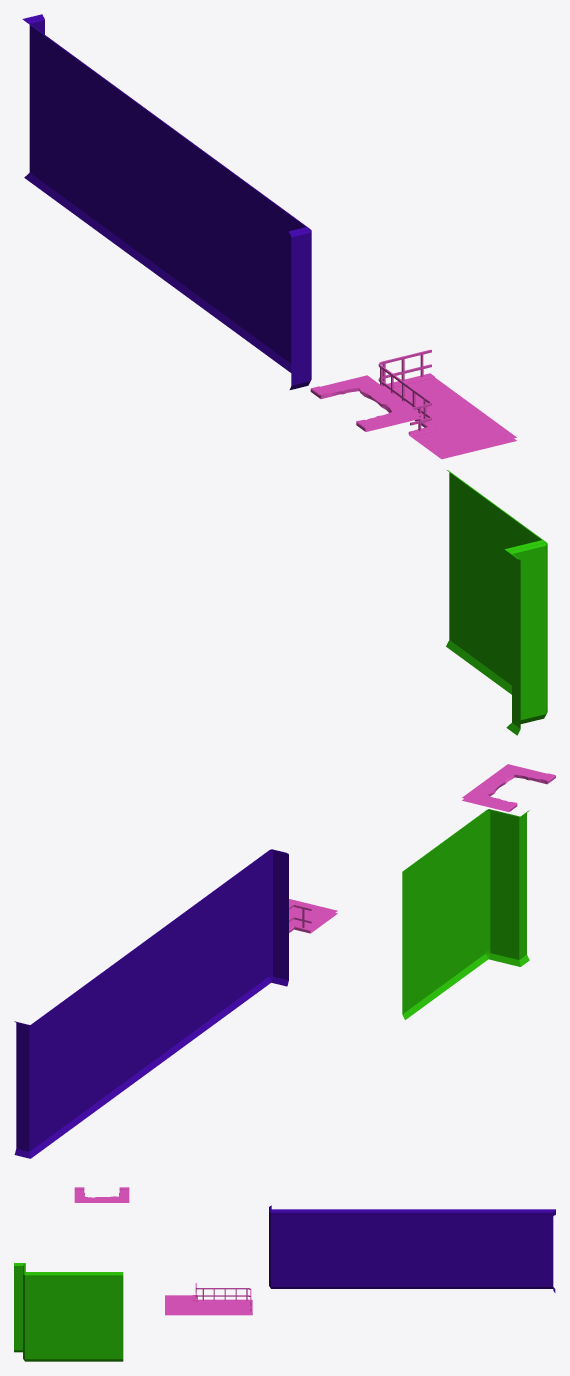
The picture shows the model from 3 angles, top to bottom: view 1: azimuth 30°, elevation 25°; view 2: azimuth 150°, elevation 25°; view 3: azimuth 270°, elevation 25°; orthographic projection. The views are drawn at different scales.
Parts seen in each view (by area): view 1: Wall_Tall_Rectangle_LP, Wall_Tall_Square_LP, Wall_Taller_Square_LP, Wall_Taller_Corner_In_LP, Catwalk_Corner_In_LP, Wall_Tall_Corner_In_LP, Wall_Taller_Corner_Out_LP, Catwalk_Corner_Out_LP, Wall_Tall_Corner_Out_LP; view 2: Wall_Tall_Rectangle_LP, Wall_Taller_Square_LP, Wall_Tall_Square_LP, Wall_Taller_Corner_In_LP, Wall_Tall_Corner_In_LP, Wall_Taller_Corner_Out_LP, Wall_Tall_Corner_Out_LP, Catwalk_Corner_In_LP, Floor_Broken_Long_2_LP, Floor_Broken_Long_1_LP; view 3: Wall_Tall_Rectangle_LP, Wall_Taller_Square_LP, Wall_Tall_Square_LP, Wall_Taller_Corner_In_LP, Wall_Tall_Corner_In_LP, Catwalk_Corner_In_LP, Wall_Taller_Corner_Out_LP, Wall_Tall_Corner_Out_LP, Catwalk_Corner_Out_LP, Catwalk_Mid_LP.
Boxes of the visible parts, left/top/right/bottom form: Wall_Tall_Rectangle_LP: left=122, top=92, right=300, bottom=372; Wall_Tall_Square_LP: left=35, top=29, right=125, bottom=249; Wall_Taller_Square_LP: left=446, top=470, right=536, bottom=694; Wall_Taller_Corner_In_LP: left=524, top=534, right=547, bottom=722; Catwalk_Corner_In_LP: left=408, top=393, right=516, bottom=459; Wall_Tall_Corner_In_LP: left=289, top=221, right=311, bottom=389; Wall_Taller_Corner_Out_LP: left=505, top=544, right=527, bottom=735; Catwalk_Corner_Out_LP: left=378, top=349, right=461, bottom=407; Wall_Tall_Corner_Out_LP: left=22, top=14, right=44, bottom=185; Wall_Tall_Rectangle_LP: left=111, top=856, right=261, bottom=1097; Wall_Taller_Square_LP: left=402, top=816, right=478, bottom=1019; Wall_Tall_Square_LP: left=37, top=965, right=113, bottom=1151; Wall_Taller_Corner_In_LP: left=476, top=809, right=506, bottom=965; Wall_Tall_Corner_In_LP: left=259, top=849, right=288, bottom=989; Wall_Taller_Corner_Out_LP: left=504, top=810, right=529, bottom=966; Wall_Tall_Corner_Out_LP: left=14, top=1019, right=39, bottom=1158; Catwalk_Corner_In_LP: left=289, top=899, right=337, bottom=933; Floor_Broken_Long_2_LP: left=462, top=791, right=517, bottom=811; Floor_Broken_Long_1_LP: left=499, top=764, right=555, bottom=784; Wall_Tall_Rectangle_LP: left=282, top=1209, right=456, bottom=1288; Wall_Taller_Square_LP: left=36, top=1272, right=123, bottom=1361; Wall_Tall_Square_LP: left=457, top=1209, right=544, bottom=1288; Wall_Taller_Corner_In_LP: left=23, top=1268, right=35, bottom=1361; Wall_Tall_Corner_In_LP: left=269, top=1205, right=281, bottom=1288; Catwalk_Corner_In_LP: left=165, top=1283, right=208, bottom=1315; Wall_Taller_Corner_Out_LP: left=14, top=1263, right=25, bottom=1352; Wall_Tall_Corner_Out_LP: left=544, top=1209, right=555, bottom=1292; Catwalk_Corner_Out_LP: left=219, top=1288, right=252, bottom=1315; Catwalk_Mid_LP: left=208, top=1288, right=219, bottom=1315.
Bounding box in the file's own units: 12.81 × 15.58 × 49.59.
